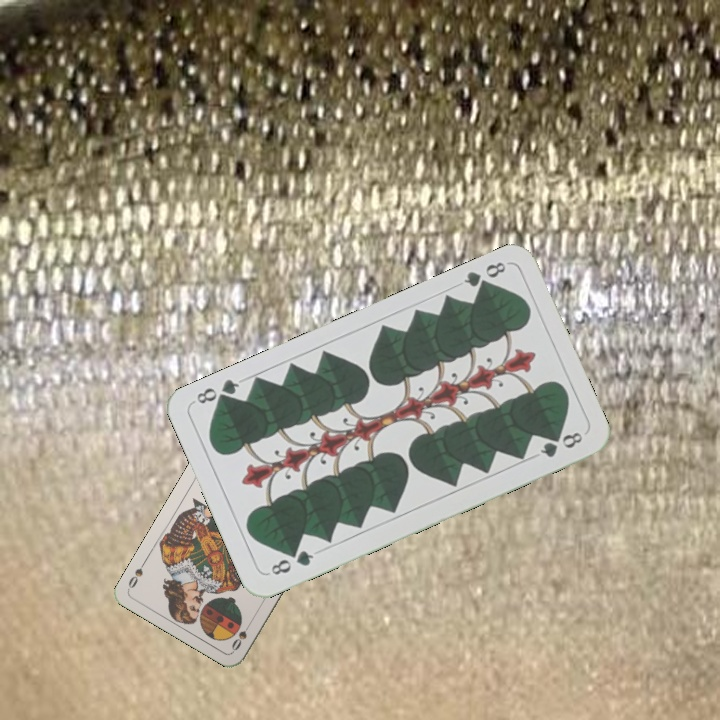G8: (459, 257, 509, 295), (264, 546, 316, 578)
SO: (227, 616, 255, 653)
